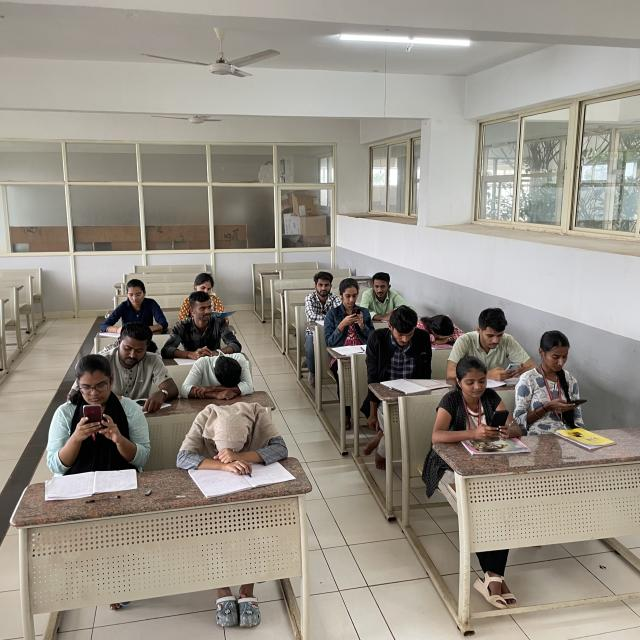Reading: (368, 304, 438, 389), (176, 275, 238, 322)
Sleeping: (170, 398, 294, 473), (176, 351, 258, 398), (417, 311, 465, 347)
Using Phone: (44, 354, 147, 467), (438, 356, 524, 442), (520, 326, 590, 426), (461, 303, 534, 382), (325, 277, 373, 345)
